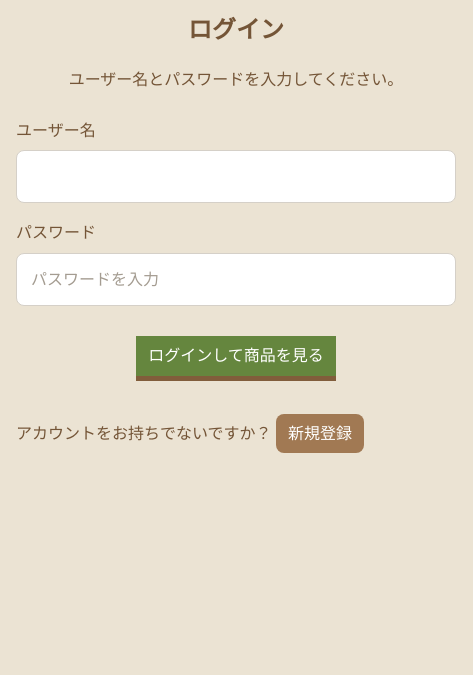
AuthPage › 送信失敗後はフォーム切り替えを再び操作できる
This screenshot has width=473, height=675.
Type "member" into the field labelled "ユーザー名".
click(236, 177); type("member")  # box 16,150 -> 456,203
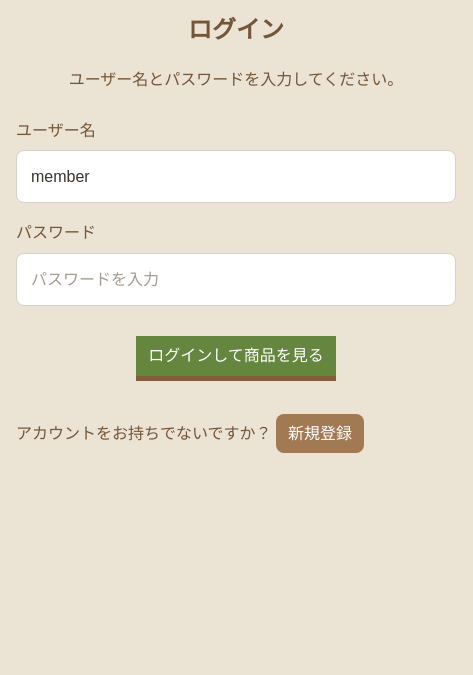
Type "password123" into the password field labelled "パスワード".
click(236, 279); type("password123")  # box 16,252 -> 456,306
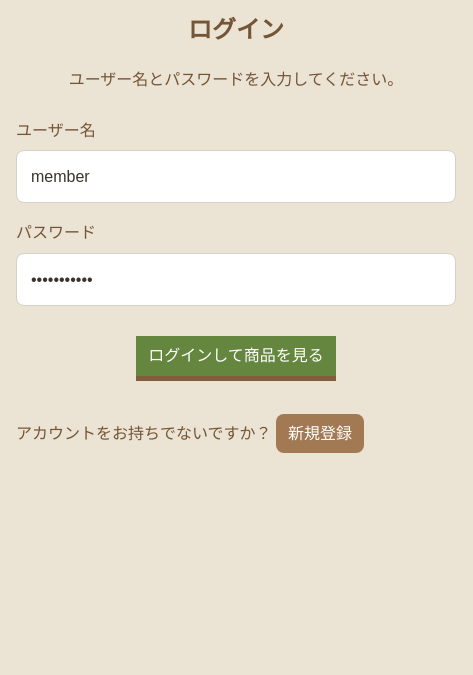
Click the button "ログインして商品を見る".
click(236, 356)  # box 136,336 -> 336,376
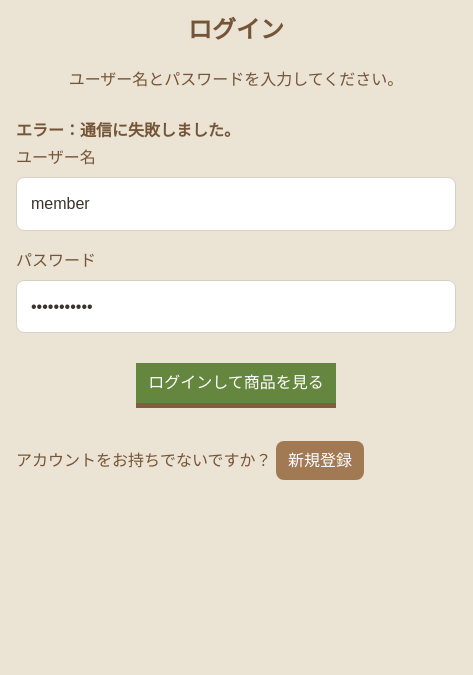
Click the link "新規登録".
click(320, 460)  # box 276,441 -> 364,480
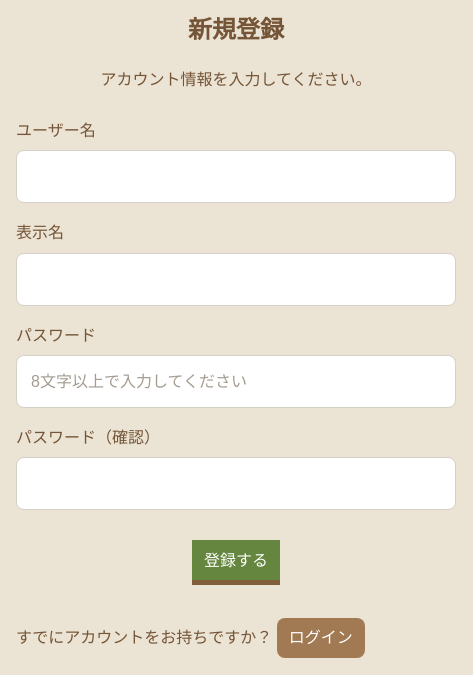
Now the heading "新規登録" is shown, box 188,16 -> 284,43
Now the password field labelled "パスワード" is empty, box 16,355 -> 456,408
